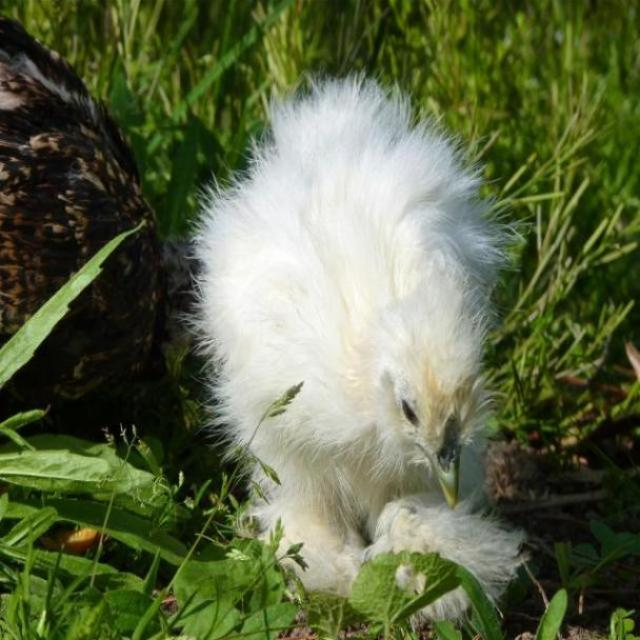Chicken: (10, 15, 161, 444)
